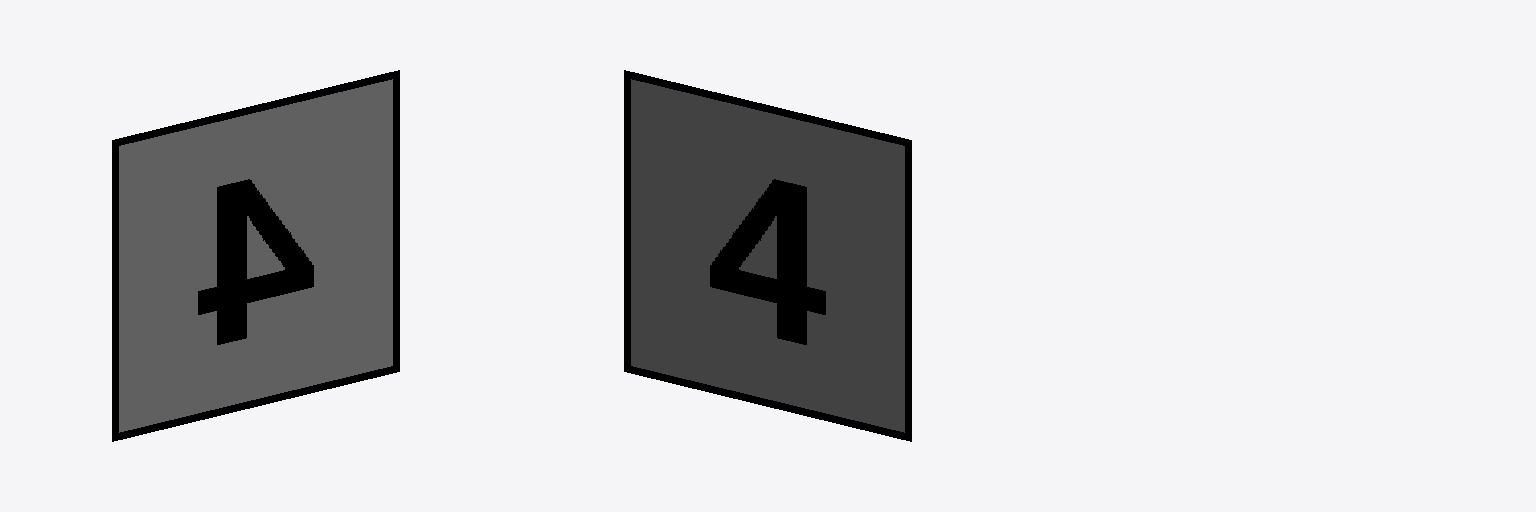
The picture shows the model from 3 angles: view 1: azimuth 30°, elevation 25°; view 2: azimuth 150°, elevation 25°; view 3: azimuth 270°, elevation 25°; orthographic projection.
Parts seen in each view (by area): view 1: 平面.001; view 2: 平面.001; view 3: none.
Boxes of the visible parts, x1,y1,x2,y2 form: 平面.001: [112, 70, 399, 441]; 平面.001: [624, 70, 911, 441].
Bounding box in the file's own units: 2 × 2 × 0.
Materials: 1 (1 with a texture image).